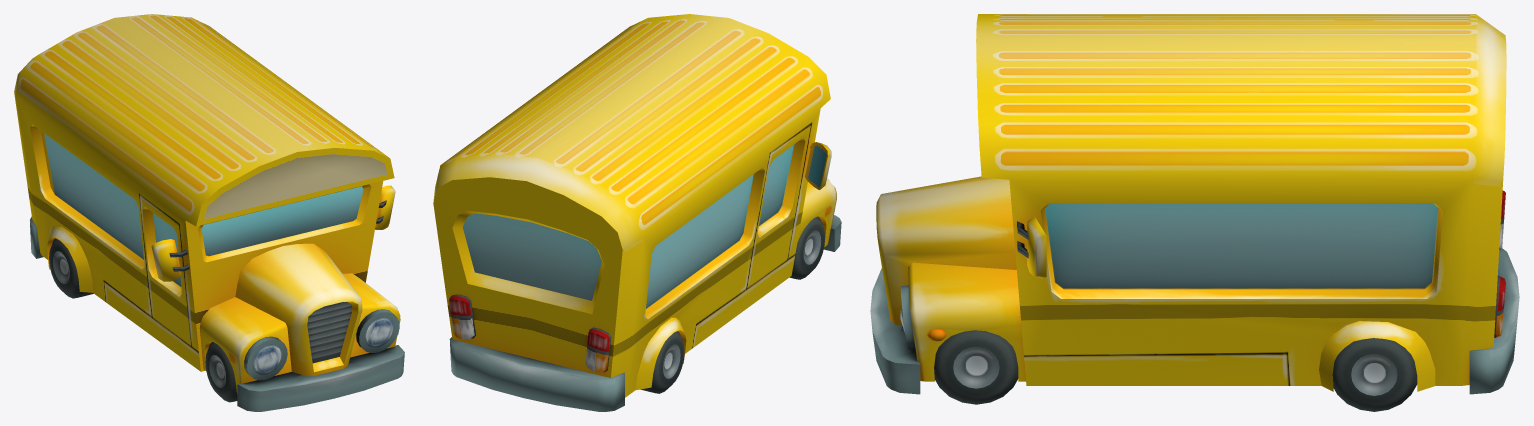
The model's file is bus.fbx.
3 renders of one model, left to right at view 1: azimuth 30°, elevation 25°; view 2: azimuth 150°, elevation 25°; view 3: azimuth 270°, elevation 25°, orthographic. The views are drawn at different scales.
Parts seen in each view (by area): view 1: bus, bus_wheel_FR, bus_wheel_RR; view 2: bus, bus_wheel_RR, bus_wheel_FR; view 3: bus, bus_wheel_FL, bus_wheel_RL.
Part boxes in pixels (x1,y1,x2,y2): bus: (14,14,404,411); bus_wheel_FR: (205,342,237,402); bus_wheel_RR: (49,238,93,298); bus: (433,14,841,411); bus_wheel_RR: (640,331,684,393); bus_wheel_FR: (789,216,825,279); bus: (870,14,1519,394); bus_wheel_FL: (934,330,1018,404); bus_wheel_RL: (1332,338,1417,411).
Bounding box in the file's own units: 190 × 174 × 324.
